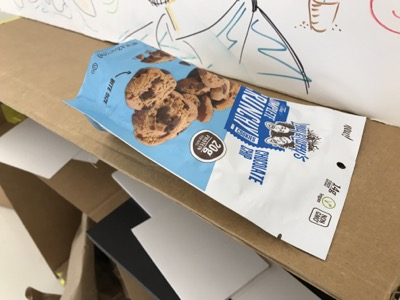cookie: (63, 38, 369, 265)
